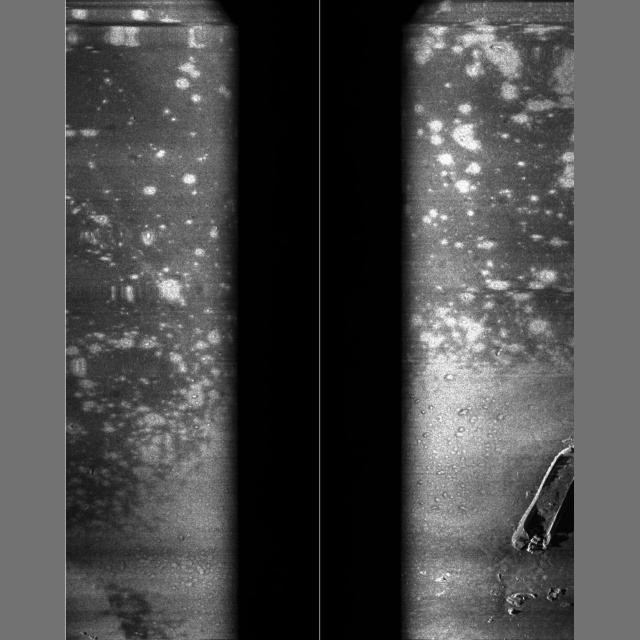Shipwreck: (420, 436, 574, 627)
